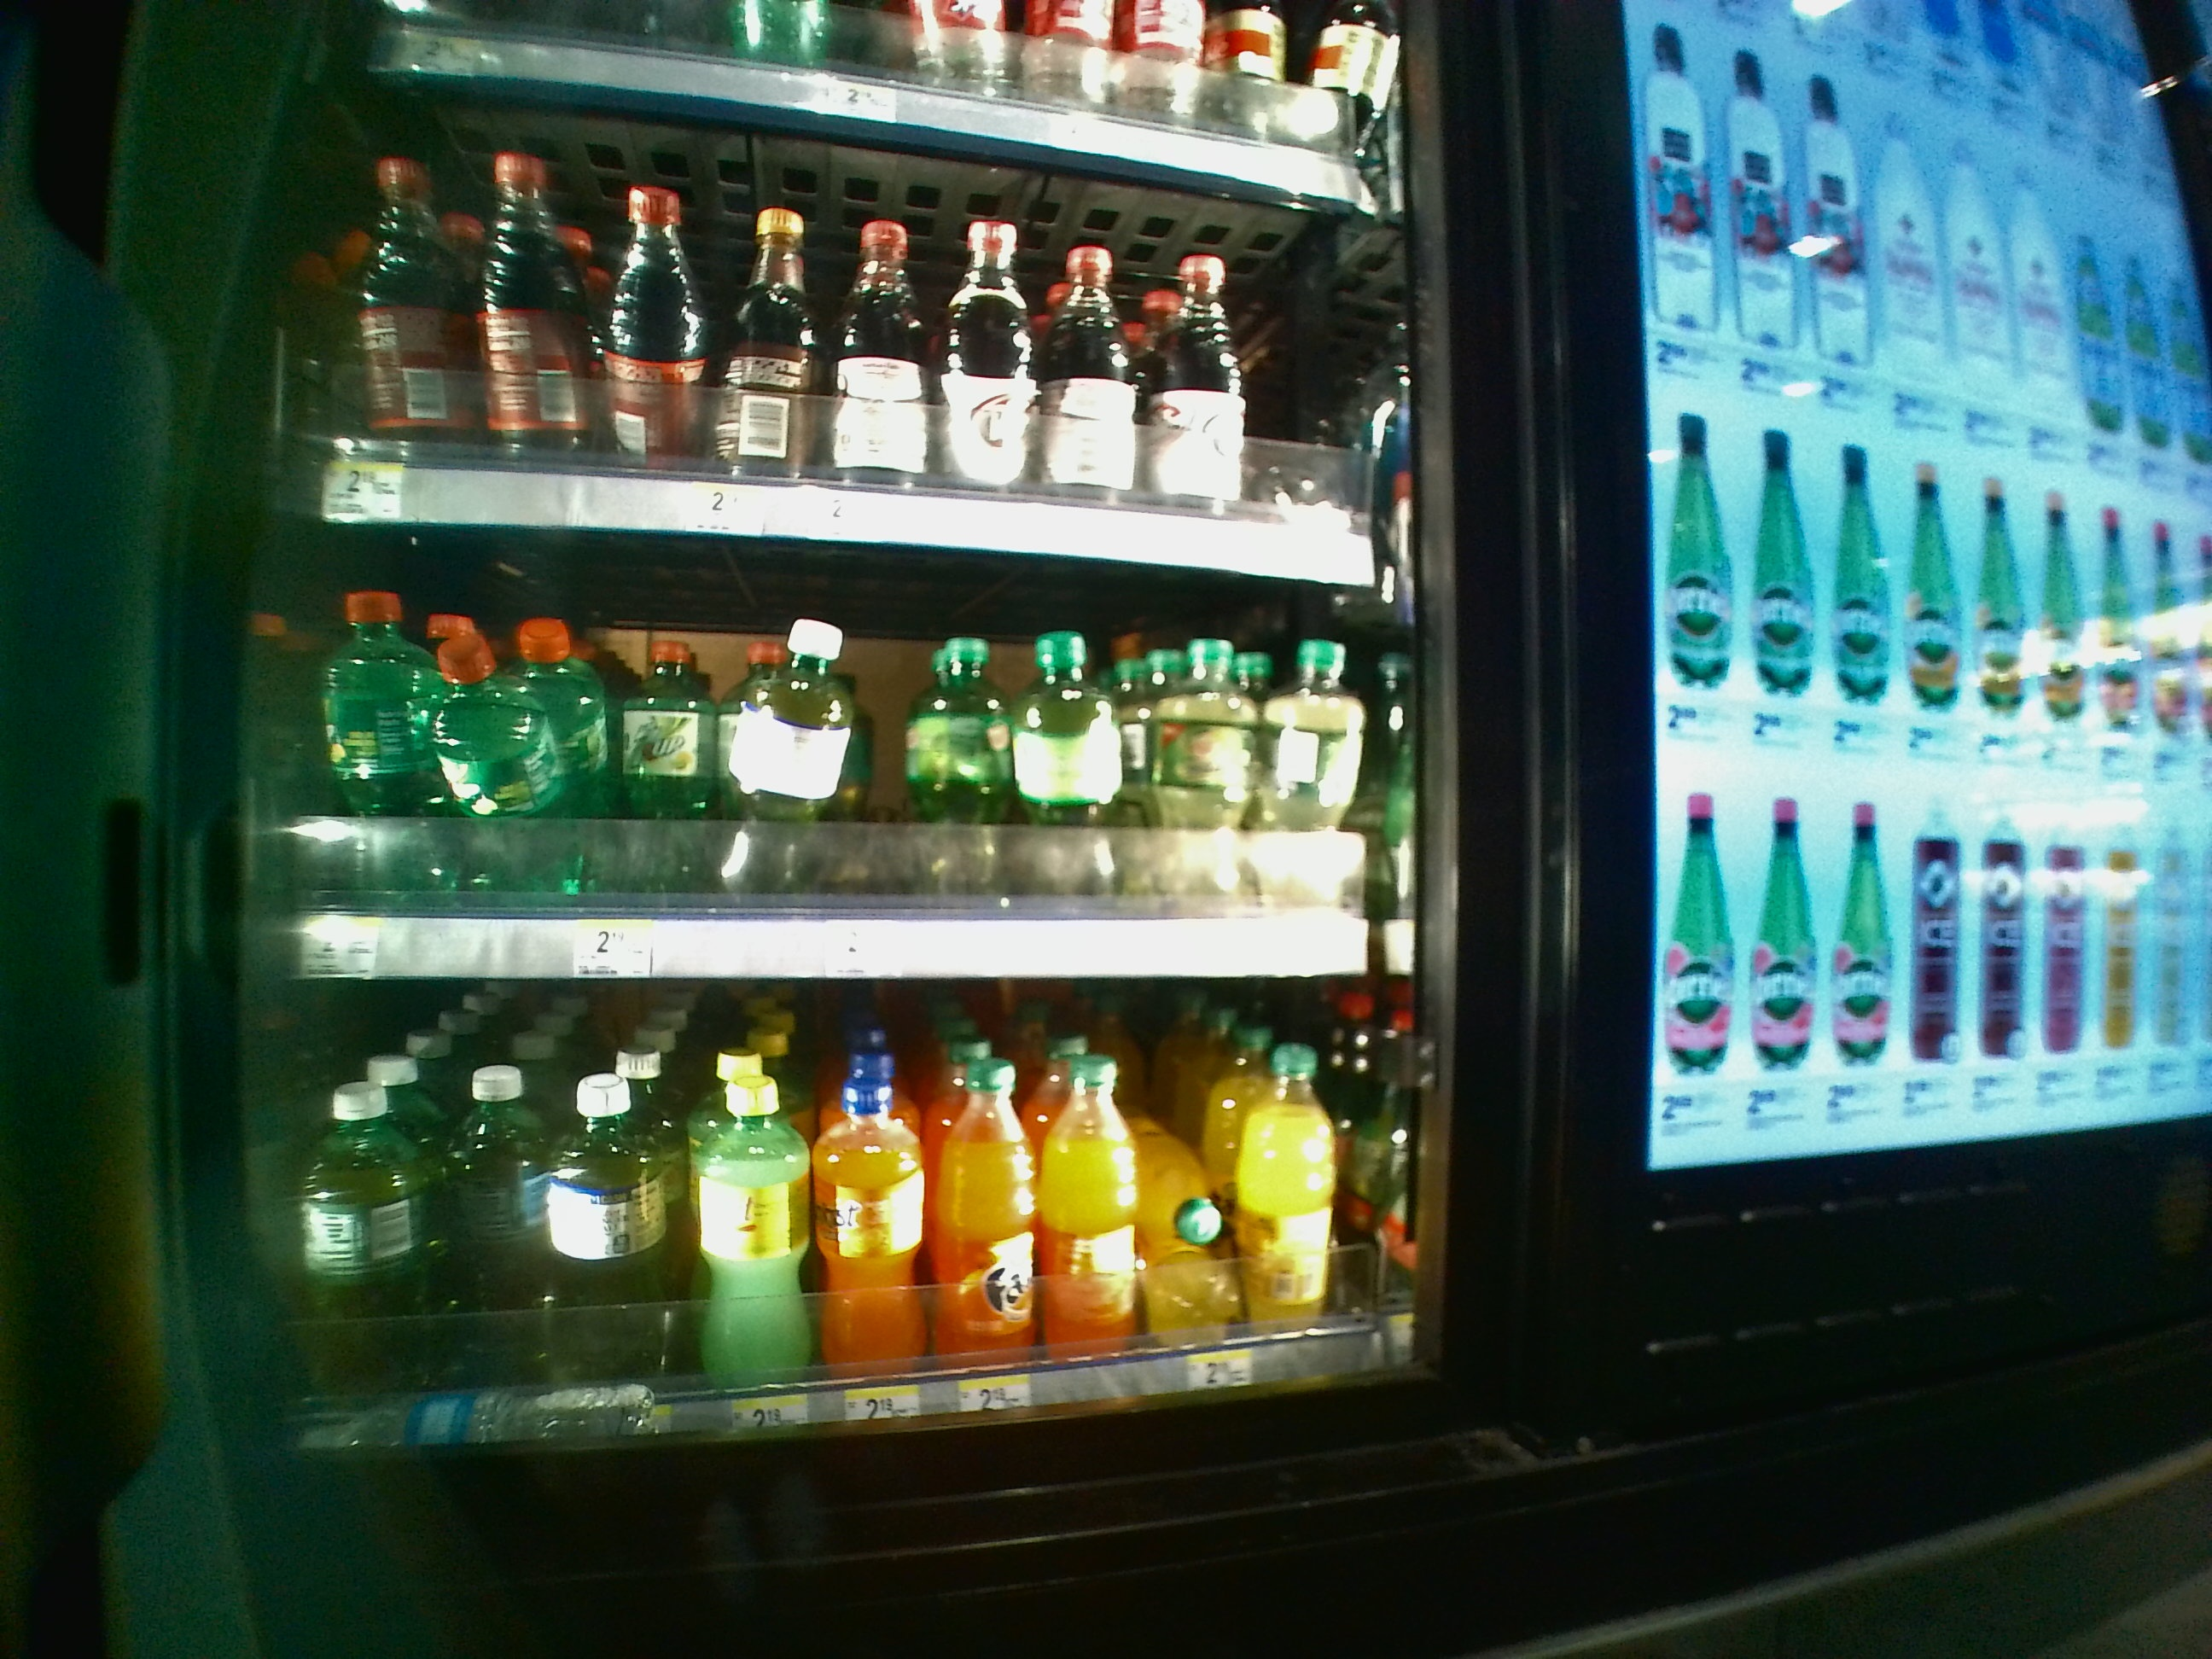shelf: (286, 505, 1411, 969), (286, 990, 1413, 1445)
